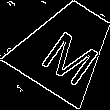M_NE: (31, 14, 101, 82)
